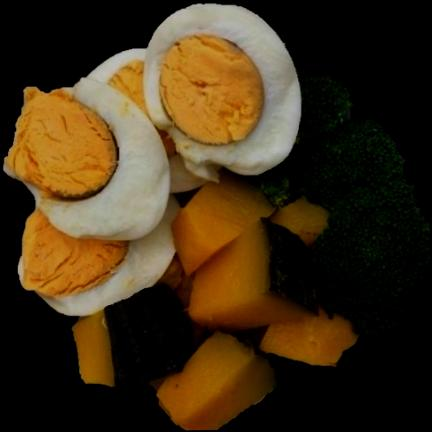broccoli: (257, 72, 430, 336)
egg: (2, 4, 301, 317)
